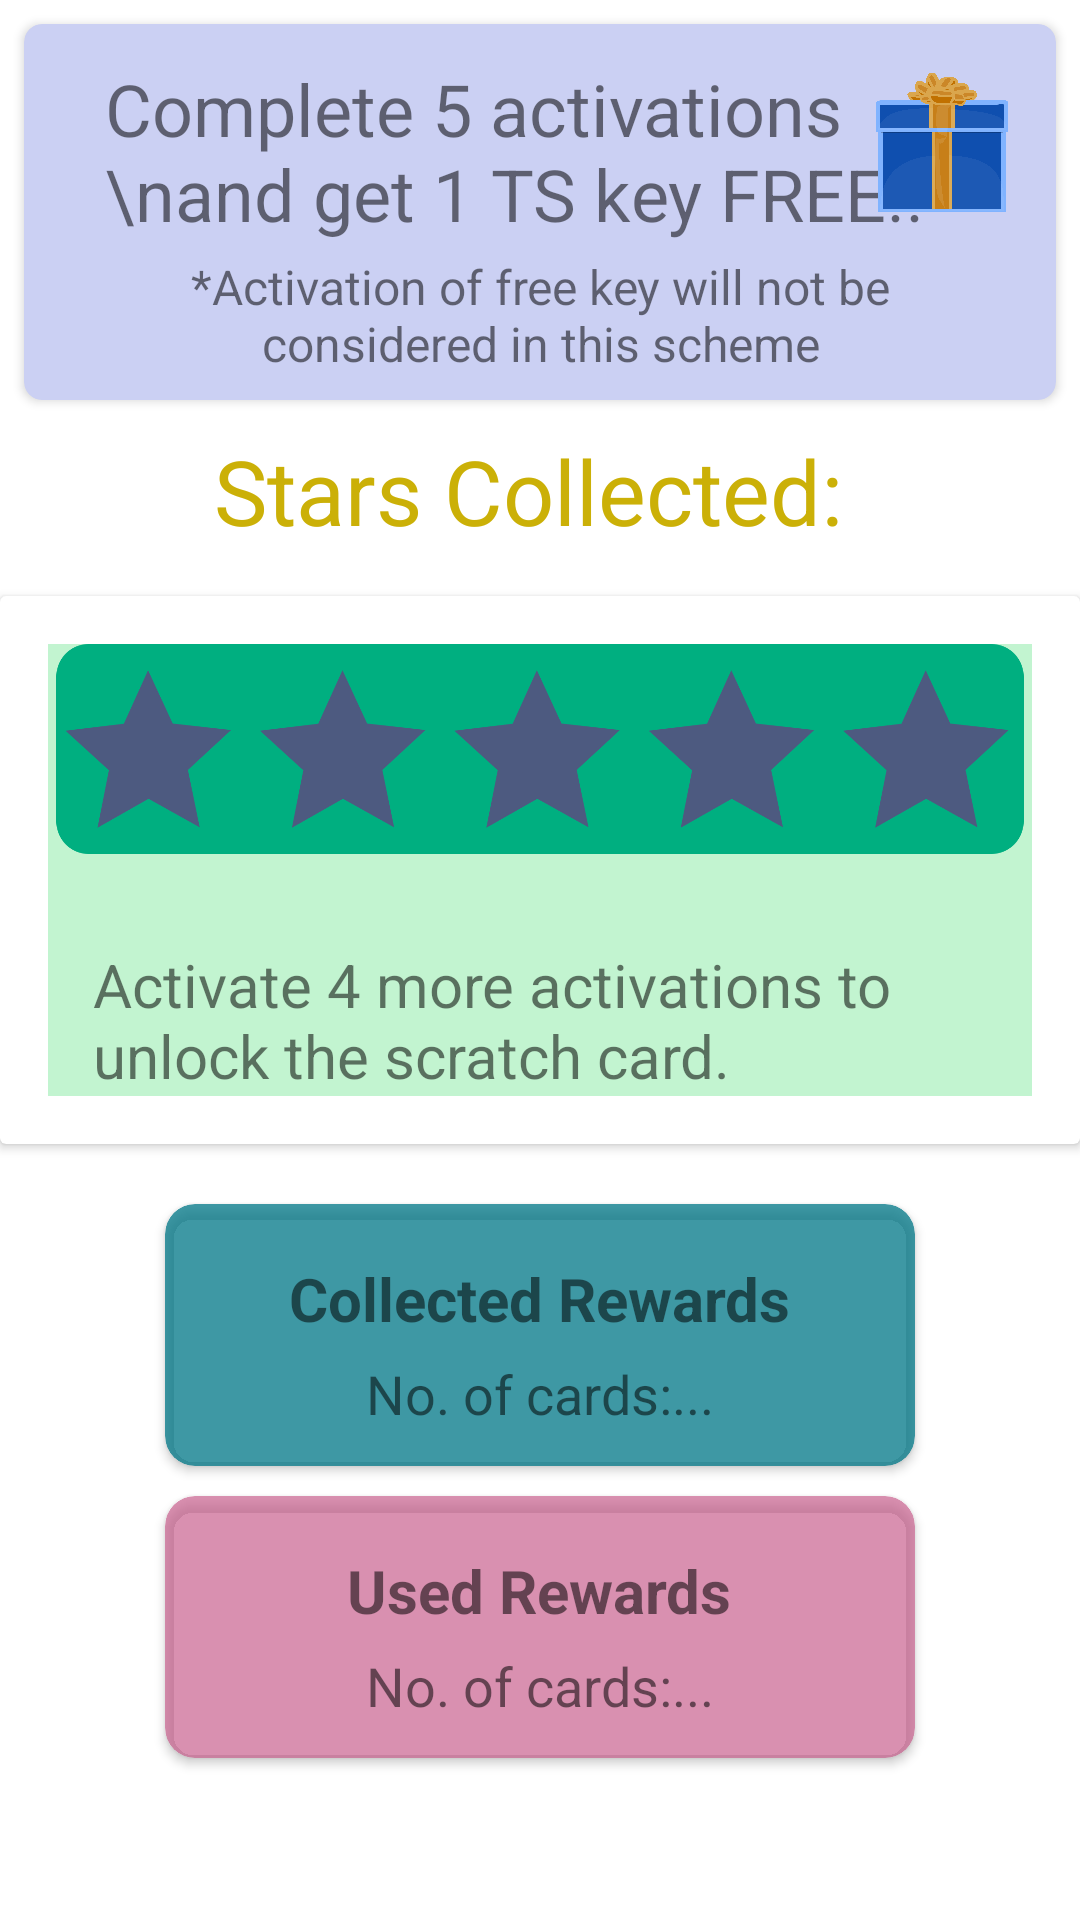

Named icons in this screenshot (1080px×1920px) and their bounding boxes, (x1, y1, x2, y2):
gift: (876, 73, 1008, 223)
